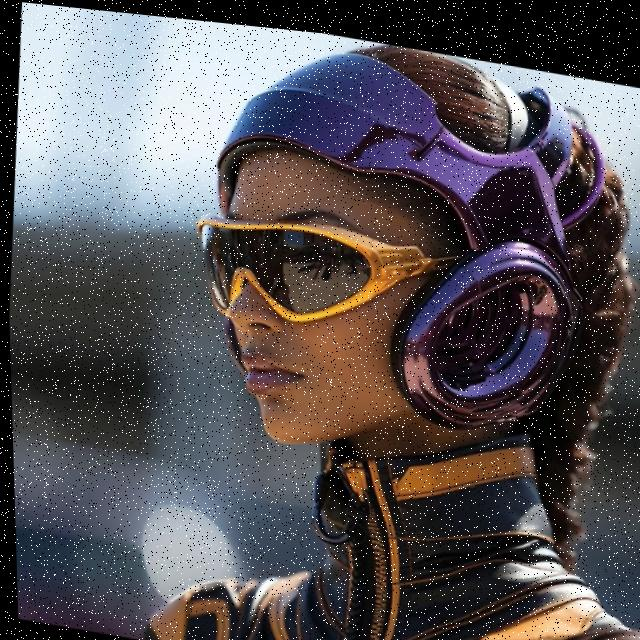illegal_helmet: (171, 14, 640, 511)
